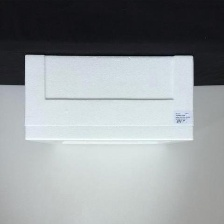foam_box: (18, 50, 199, 149)
